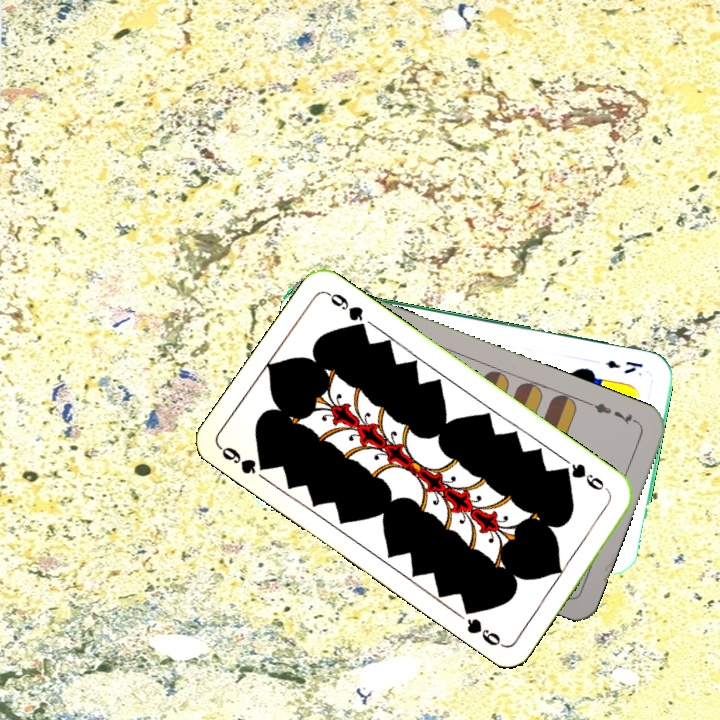E7: (584, 398, 641, 428)
EK: (602, 356, 646, 377)
G9: (557, 459, 612, 496), (216, 442, 274, 477)
